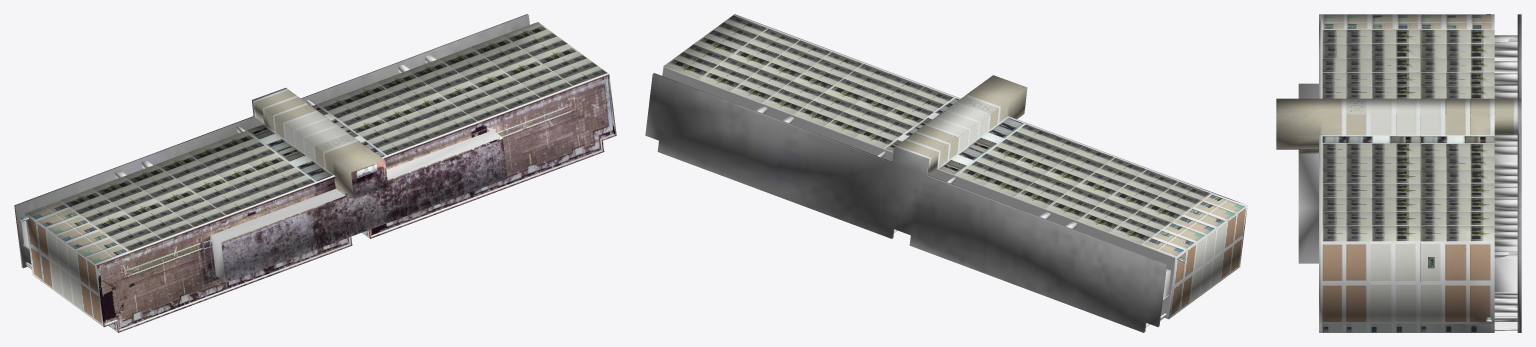
The model's file is amk_blk508_building.obj.
3 views of the same model, side by side, from view 1: azimuth 30°, elevation 25°; view 2: azimuth 150°, elevation 25°; view 3: azimuth 270°, elevation 25° (orthographic). The views are drawn at different scales.
Visible parts, largest first — view 1: polygon.834; view 2: polygon.834; view 3: polygon.834.
Boxes of the visible parts, x1=… form: polygon.834: x1=14, y1=14, x2=616, y2=332; polygon.834: x1=645, y1=14, x2=1247, y2=332; polygon.834: x1=1276, y1=14, x2=1521, y2=332.
Bounding box in the file's own units: 101 × 25.11 × 32.49.
1 material, 1 textured.
